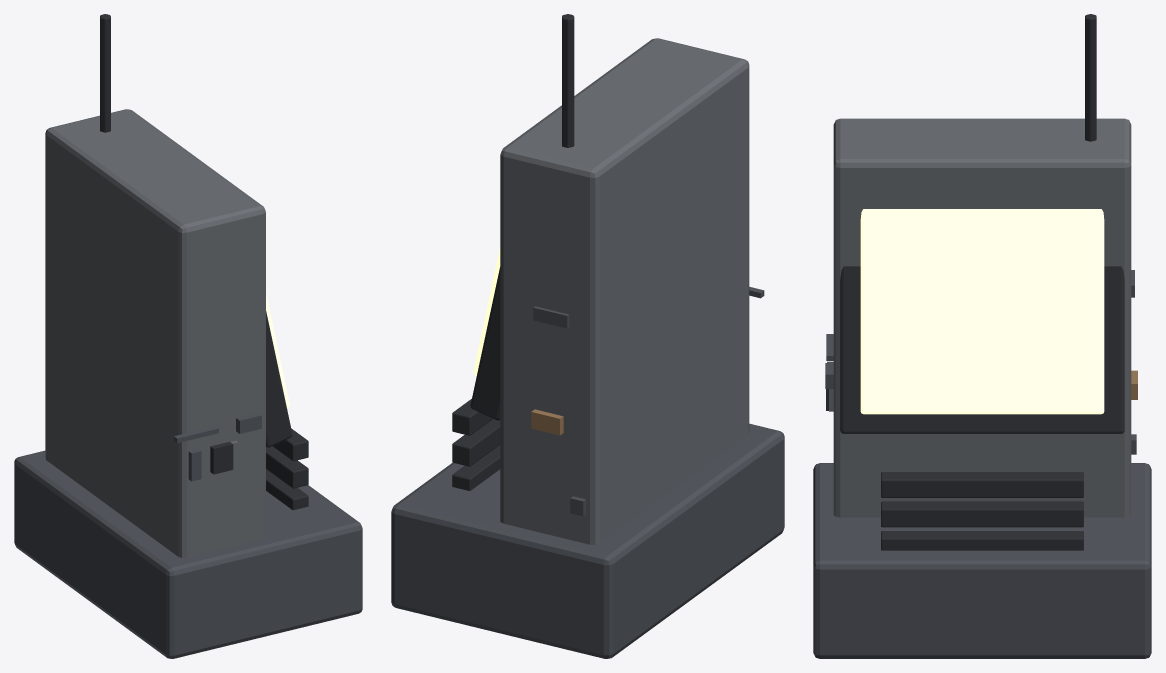
The model's file is prop_terminal.fbx.
3 renders of one model, left to right at view 1: azimuth 30°, elevation 25°; view 2: azimuth 150°, elevation 25°; view 3: azimuth 270°, elevation 25°, orthographic. The views are drawn at different scales.
Parts seen in each view (by area): view 1: SM_Prop_Terminal; view 2: SM_Prop_Terminal; view 3: SM_Prop_Terminal.
Boxes of the visible parts, x1,y1,x2,y2 form: SM_Prop_Terminal: (14, 14, 362, 658); SM_Prop_Terminal: (391, 14, 784, 658); SM_Prop_Terminal: (813, 14, 1151, 658).
Size of what is drawn, in the model's own units: 36 by 94 by 50.
